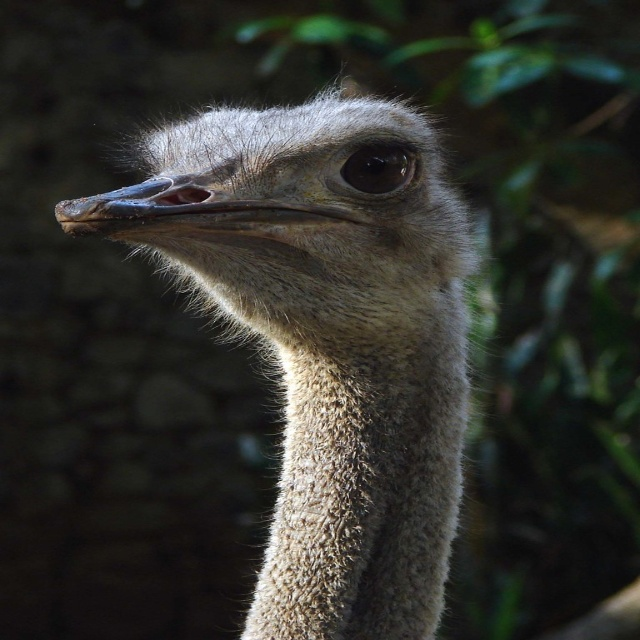Ostrich: (42, 88, 471, 640)
